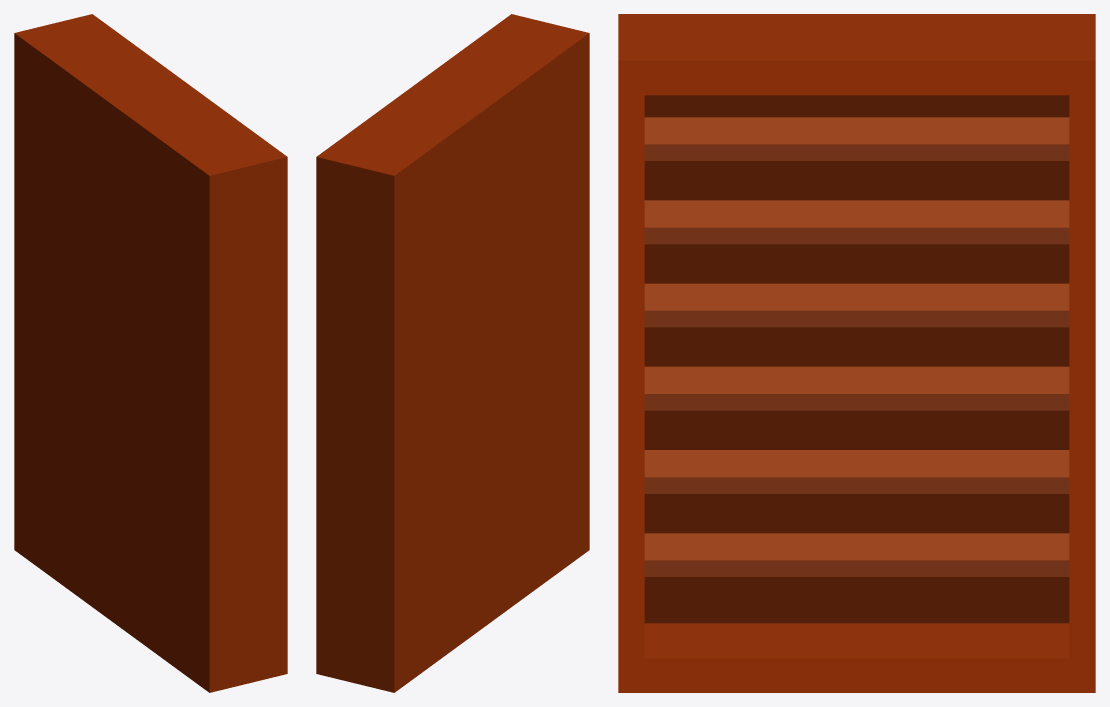
File: library.gltf
3 renders of one model, left to right at view 1: azimuth 30°, elevation 25°; view 2: azimuth 150°, elevation 25°; view 3: azimuth 270°, elevation 25°, orthographic. The views are drawn at different scales.
Parts seen in each view (by area): view 1: cuboid; view 2: cuboid; view 3: cuboid, stand_2, stand_4, stand_3, stand_1, stand_5, stand_6.
Boxes of the visible parts, x1,y1,x2,y2 form: cuboid: [14, 14, 287, 692]; cuboid: [316, 14, 589, 692]; cuboid: [618, 14, 1095, 692]; stand_2: [644, 200, 1069, 244]; stand_4: [644, 366, 1069, 410]; stand_3: [644, 283, 1069, 327]; stand_1: [644, 117, 1069, 160]; stand_5: [644, 450, 1069, 493]; stand_6: [644, 533, 1069, 576].
Bounding box in the file's own units: 0.375 × 2.38 × 1.62.
1 material, 1 textured.
